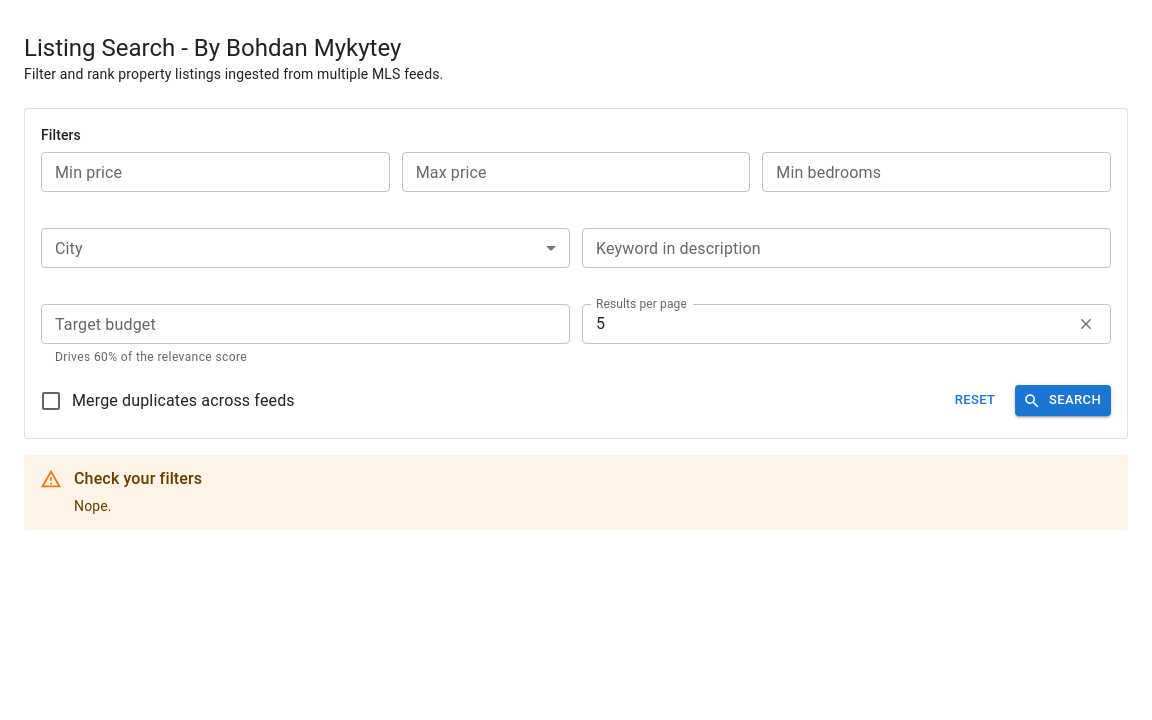
Test: caching › does not cache a failed request, so resubmitting the same query retries it
The image size is (1152, 720).
Expected: the text "Check your filters" is shown, [74,467,202,491]
Click the button "Search": (1063, 401) [1015,385,1111,416]
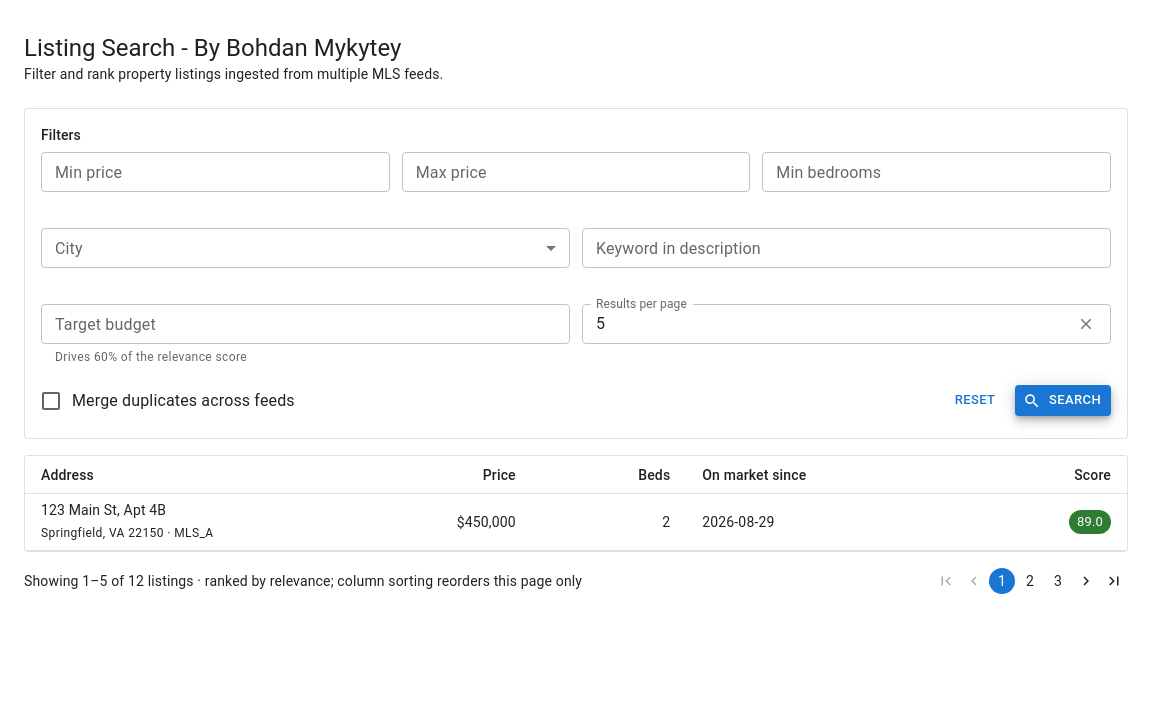
Now the text "123 Main St, Apt 4B" is shown, box [41,502,166,518]
